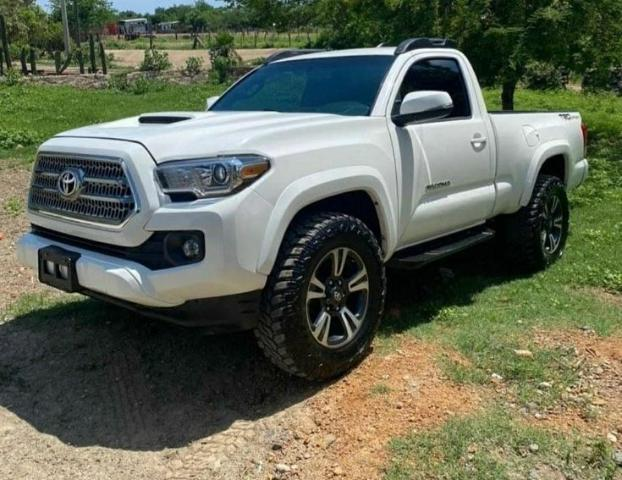pickup-truck: (16, 37, 590, 383)
